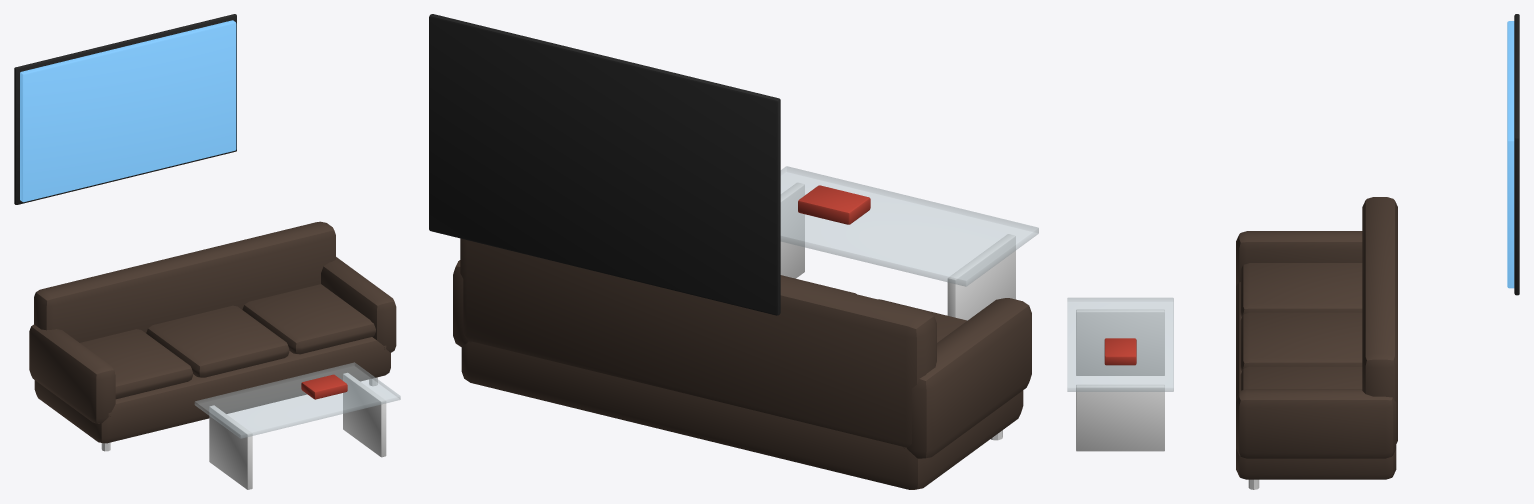
The model's file is g_lounge.fbx.
3 renders of one model, left to right at view 1: azimuth 30°, elevation 25°; view 2: azimuth 150°, elevation 25°; view 3: azimuth 270°, elevation 25°, orthographic. The views are drawn at different scales.
Visible parts, largest first — view 1: g_lounge_leather, g_lounge_screen, g_lounge_glass, g_lounge_chrome, g_lounge_black, g_lounge_red; view 2: g_lounge_leather, g_lounge_black, g_lounge_glass, g_lounge_chrome, g_lounge_red; view 3: g_lounge_leather, g_lounge_chrome, g_lounge_glass, g_lounge_screen, g_lounge_black, g_lounge_red.
Part boxes in pixels (x1=…): g_lounge_leather: x1=29, y1=221, x2=396, y2=443; g_lounge_screen: x1=20, y1=20, x2=236, y2=202; g_lounge_glass: x1=194, y1=362, x2=400, y2=438; g_lounge_chrome: x1=101, y1=373, x2=386, y2=489; g_lounge_black: x1=14, y1=14, x2=236, y2=204; g_lounge_red: x1=301, y1=374, x2=347, y2=399; g_lounge_leather: x1=453, y1=238, x2=1031, y2=489; g_lounge_black: x1=429, y1=14, x2=780, y2=315; g_lounge_glass: x1=780, y1=166, x2=1038, y2=286; g_lounge_chrome: x1=780, y1=182, x2=1015, y2=440; g_lounge_red: x1=798, y1=185, x2=870, y2=224; g_lounge_leather: x1=1236, y1=197, x2=1397, y2=479; g_lounge_chrome: x1=1076, y1=309, x2=1259, y2=489; g_lounge_glass: x1=1067, y1=297, x2=1173, y2=391; g_lounge_screen: x1=1507, y1=21, x2=1514, y2=288; g_lounge_black: x1=1514, y1=14, x2=1519, y2=295; g_lounge_red: x1=1104, y1=338, x2=1136, y2=365.
Bounding box in the file's own units: 2.28 × 2.09 × 2.55.
